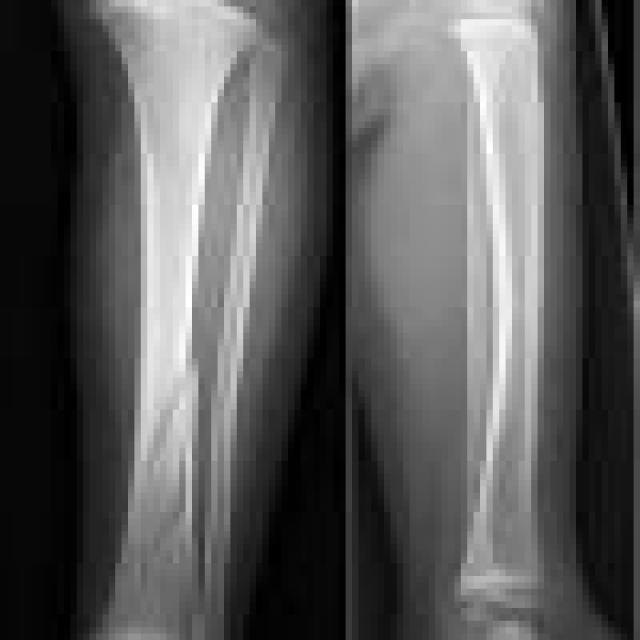Spiral: (102, 324, 268, 609)
